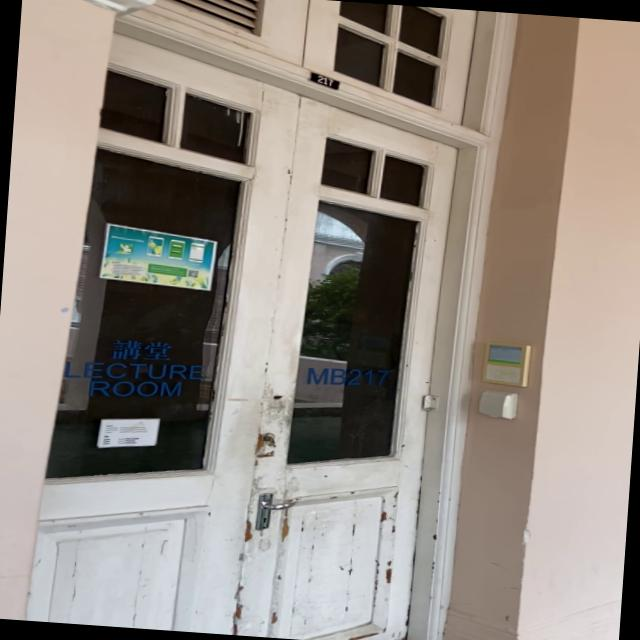room217: (305, 70, 342, 90)
room217Window: (300, 362, 390, 390)
